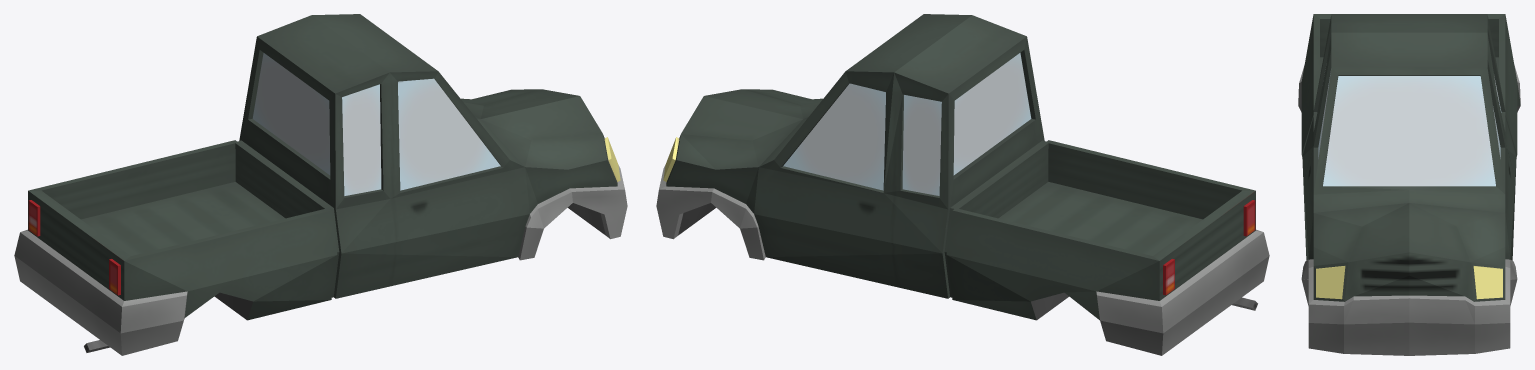
Rendered from co_Pickup02.fbx.
3 renders of one model, left to right at view 1: azimuth 30°, elevation 25°; view 2: azimuth 150°, elevation 25°; view 3: azimuth 270°, elevation 25°, orthographic.
Parts seen in each view (by area): view 1: Pickup02; view 2: Pickup02; view 3: Pickup02.
Part boxes in pixels (x1=…): Pickup02: x1=14, y1=14, x2=627, y2=355; Pickup02: x1=656, y1=14, x2=1269, y2=355; Pickup02: x1=1298, y1=14, x2=1520, y2=355.
Bounding box in the file's own units: 732 × 283 × 264.
